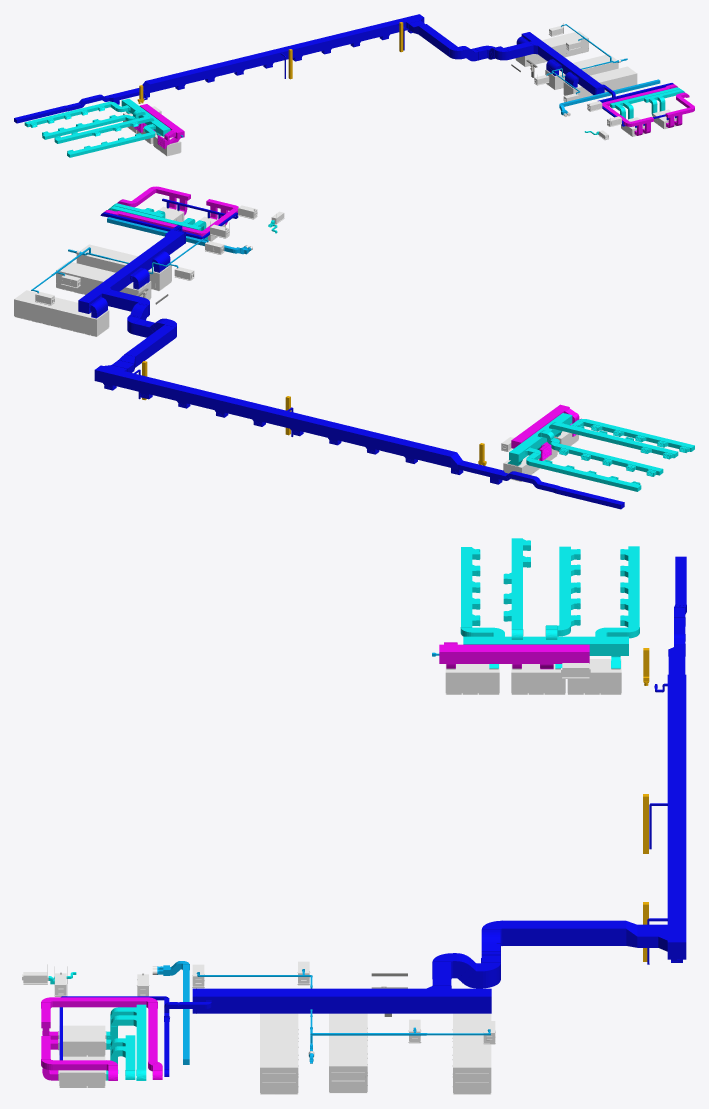
The model's file is detail-ducts-lite-4-3f.glb.
3 renders of one model, top to bottom at view 1: azimuth 30°, elevation 25°; view 2: azimuth 150°, elevation 25°; view 3: azimuth 270°, elevation 25°, orthographic. The views are drawn at different scales.
Size of the model in its own units: 132 by 6.87 by 71.27.
